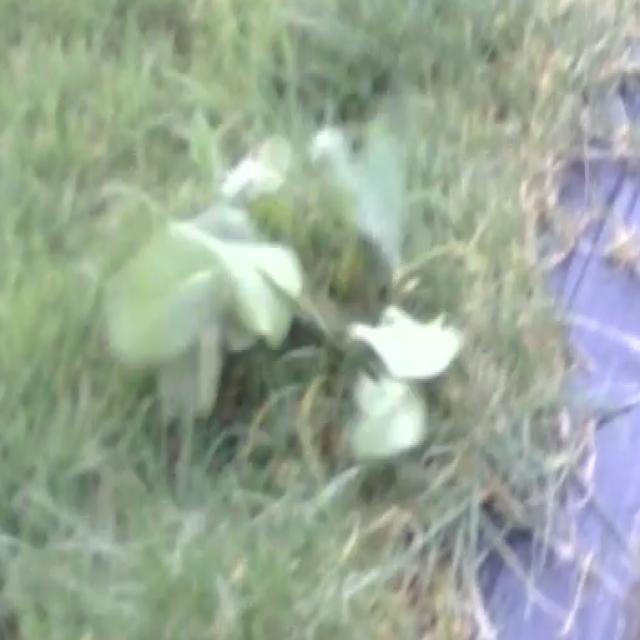organic waste: (98, 124, 528, 507)
